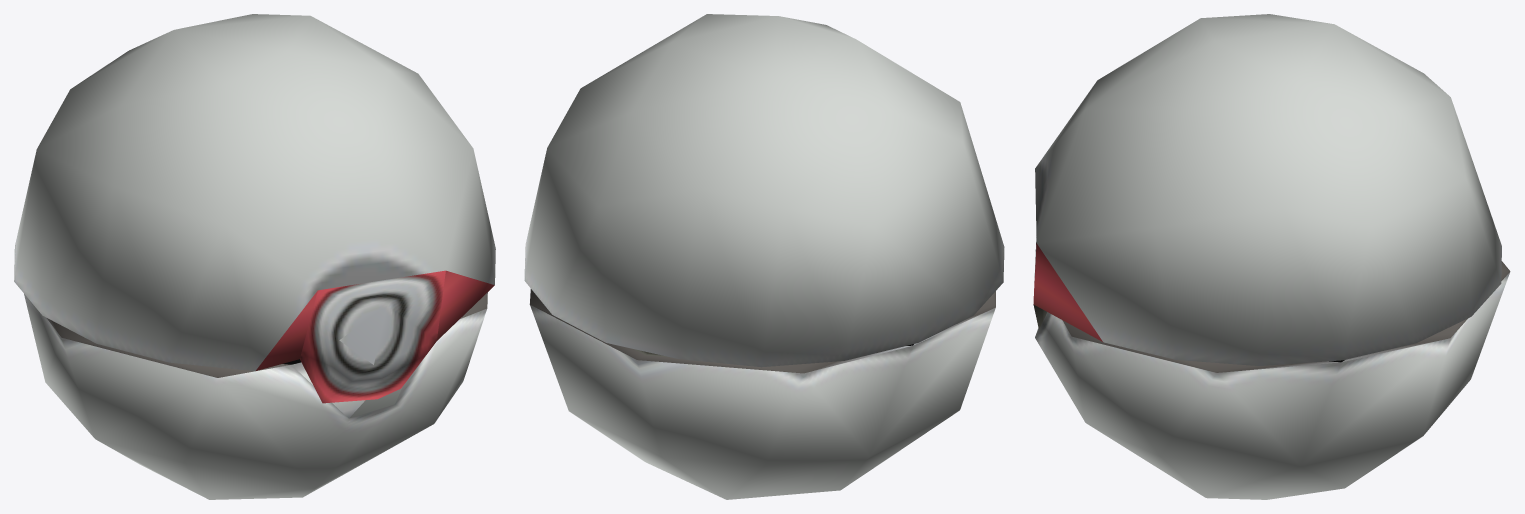
Rendered from item.glb.
The picture shows the model from 3 angles, left to right: view 1: azimuth 30°, elevation 25°; view 2: azimuth 150°, elevation 25°; view 3: azimuth 270°, elevation 25°; orthographic projection.
Parts seen in each view (by area): view 1: item; view 2: item; view 3: item.
Boxes of the visible parts, bbox=[...] form: item: bbox=[14, 14, 495, 499]; item: bbox=[524, 14, 1004, 499]; item: bbox=[1033, 14, 1510, 499].
Bounding box in the file's own units: 6.06 × 6.03 × 5.93.
Materials: 1 (1 with a texture image).
